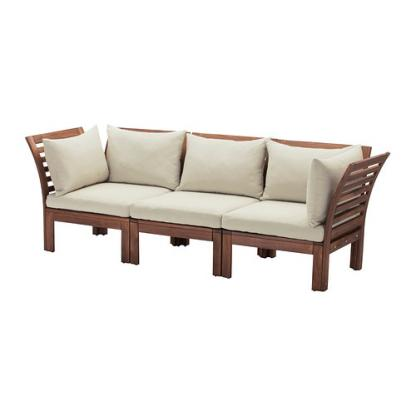Sofa: (20, 119, 393, 294)
